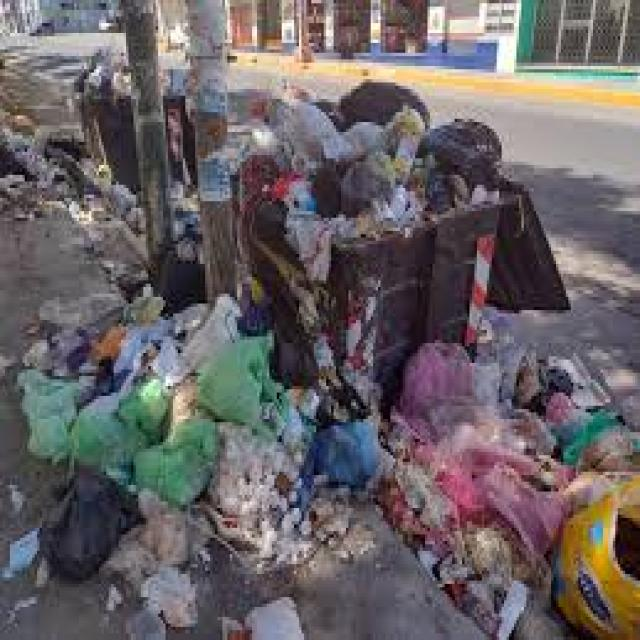garbage: (13, 78, 640, 640)
